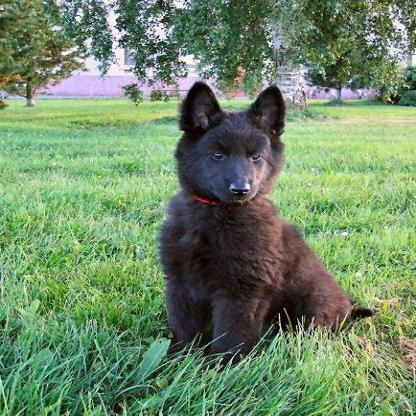groenendael: (155, 80, 374, 368)
